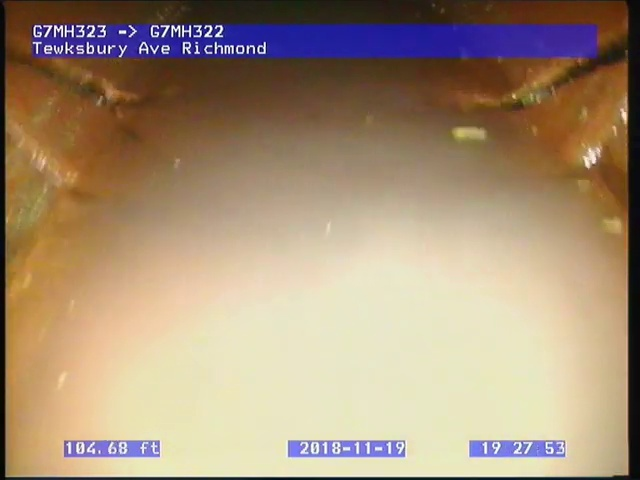crack: (7, 45, 176, 150), (470, 32, 628, 115)
